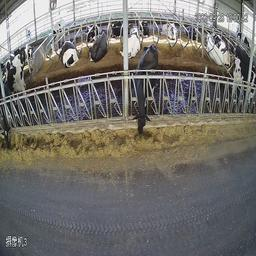cow: (134, 46, 161, 135), (205, 27, 223, 66), (86, 30, 107, 62), (50, 17, 66, 54), (57, 42, 79, 68), (22, 41, 34, 75), (128, 21, 138, 61), (82, 21, 100, 40), (161, 21, 177, 40), (184, 23, 198, 41), (109, 18, 121, 38), (137, 20, 150, 37)
